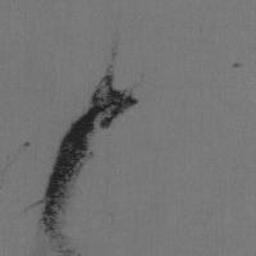Inclusion: (18, 65, 141, 256), (111, 37, 122, 60), (230, 59, 243, 70), (23, 141, 31, 148)
